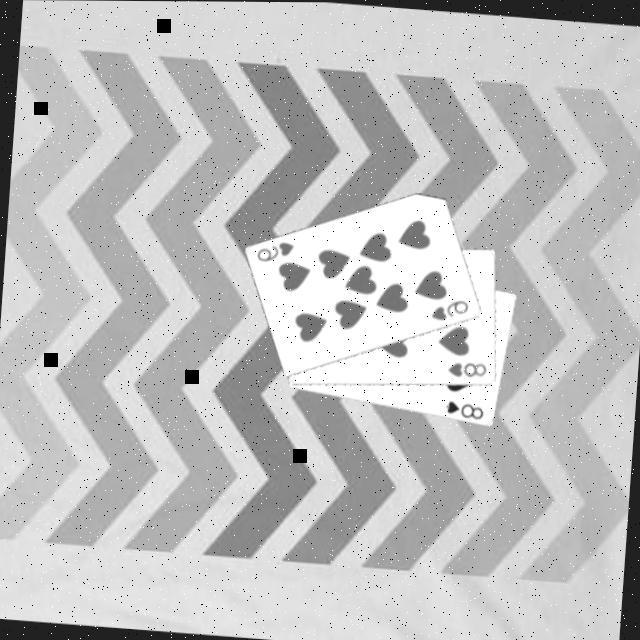8H: (442, 355, 487, 379)
8S: (440, 395, 484, 420)
9H: (426, 292, 470, 324), (250, 235, 296, 264)
